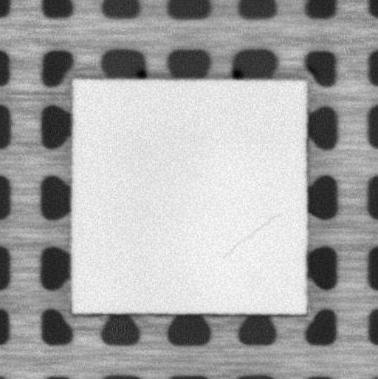DIE_CRACK: (223, 212, 281, 261)
